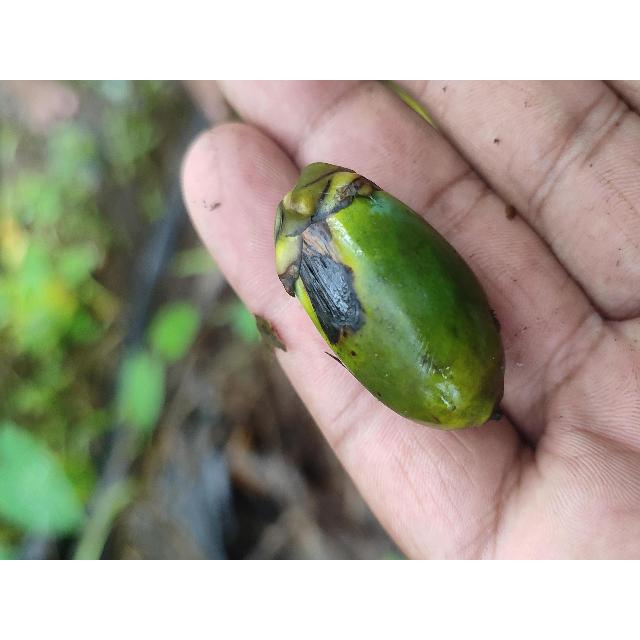damaged: (273, 163, 506, 432)
